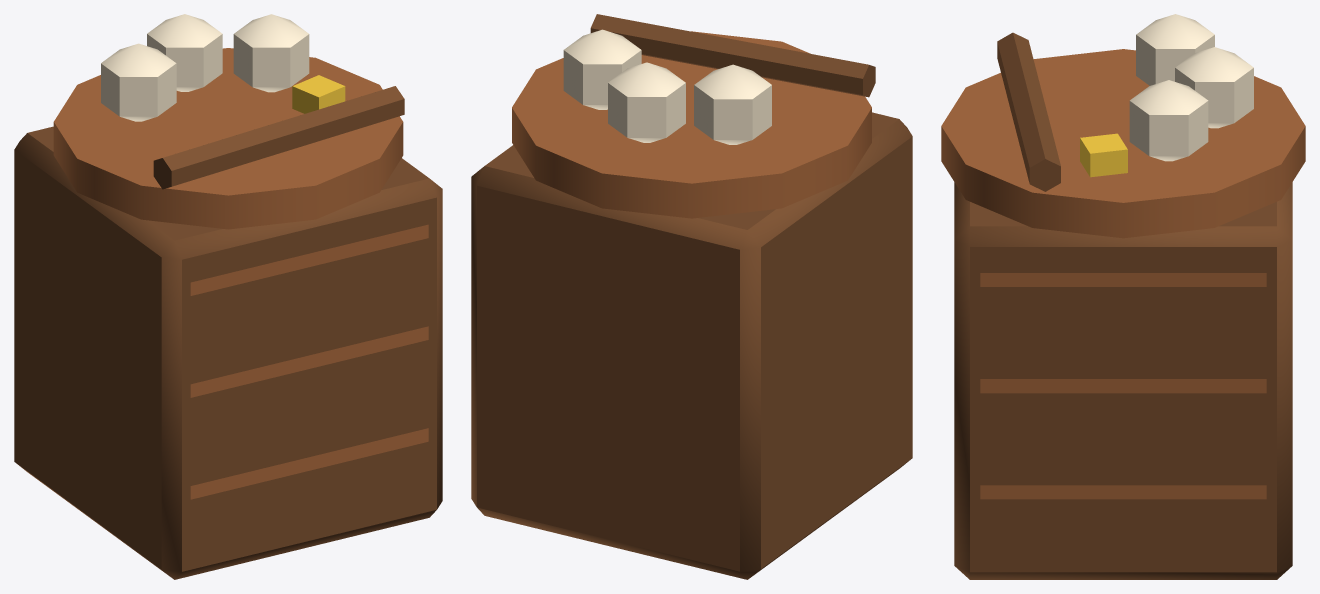
The model's file is prop_kulcha_board.glb.
3 renders of one model, left to right at view 1: azimuth 30°, elevation 25°; view 2: azimuth 150°, elevation 25°; view 3: azimuth 270°, elevation 25°, orthographic. The views are drawn at different scales.
Visible parts, largest first — view 1: prop_kulcha_board; view 2: prop_kulcha_board; view 3: prop_kulcha_board.
Part boxes in pixels (<box>): prop_kulcha_board: <box>14,14,442,579</box>; prop_kulcha_board: <box>471,14,912,579</box>; prop_kulcha_board: <box>941,14,1305,579</box>.
Bounding box in the file's own units: 0.28 × 0.397 × 0.28.
Materials: 1 (1 with a texture image).
